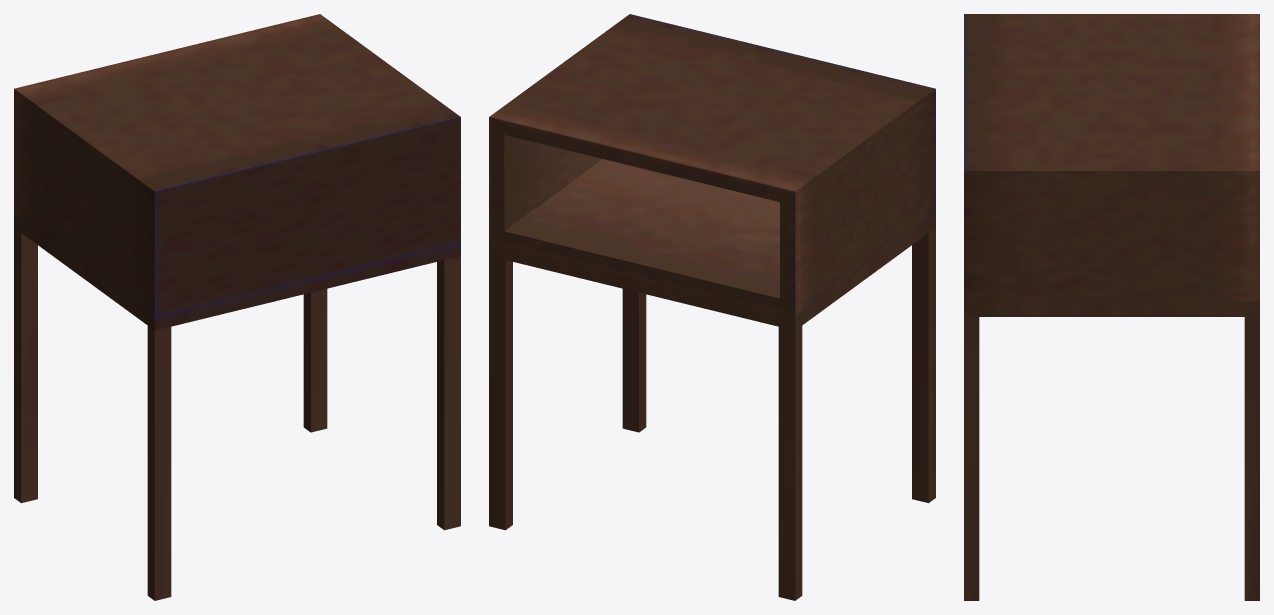
Rendered from short_table_with_cabinet.fbx.
3 views of the same model, side by side, from view 1: azimuth 30°, elevation 25°; view 2: azimuth 150°, elevation 25°; view 3: azimuth 270°, elevation 25° (orthographic). The views are drawn at different scales.
Parts seen in each view (by area): view 1: Shortened Table w/Cabinet; view 2: Shortened Table w/Cabinet; view 3: Shortened Table w/Cabinet.
Part boxes in pixels (x1=…): Shortened Table w/Cabinet: x1=14, y1=14, x2=460, y2=600; Shortened Table w/Cabinet: x1=489, y1=14, x2=935, y2=600; Shortened Table w/Cabinet: x1=964, y1=14, x2=1259, y2=600.
Bounding box in the file's own units: 0.7155 × 0.5698 × 0.9141.
Materials: 1 (1 with a texture image).
